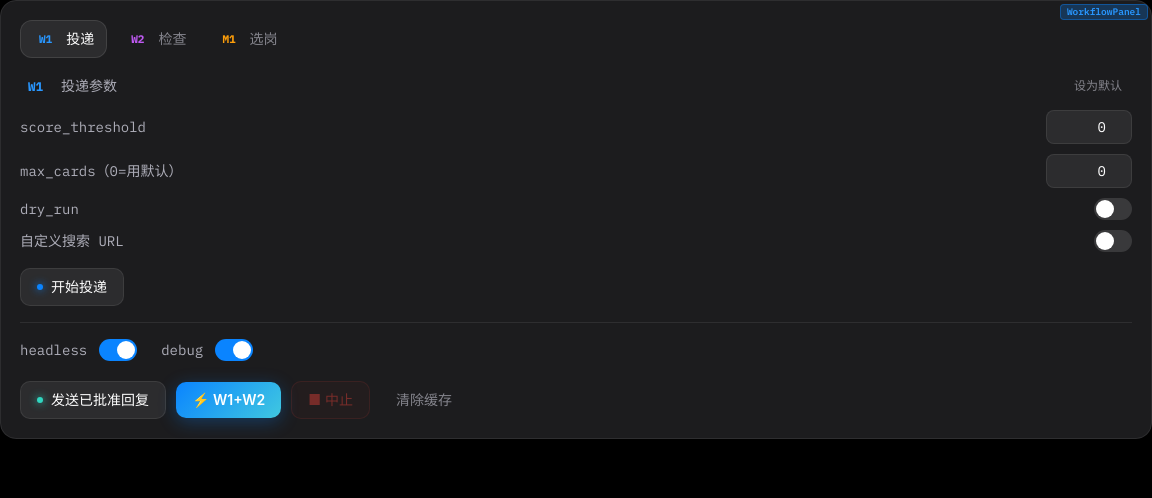
Test: candidates_per_bucket is adjustable from the console › shows the field on the M1 tab
Click the button "M1 选岗": coordinates (247, 39) [204,20,290,58]
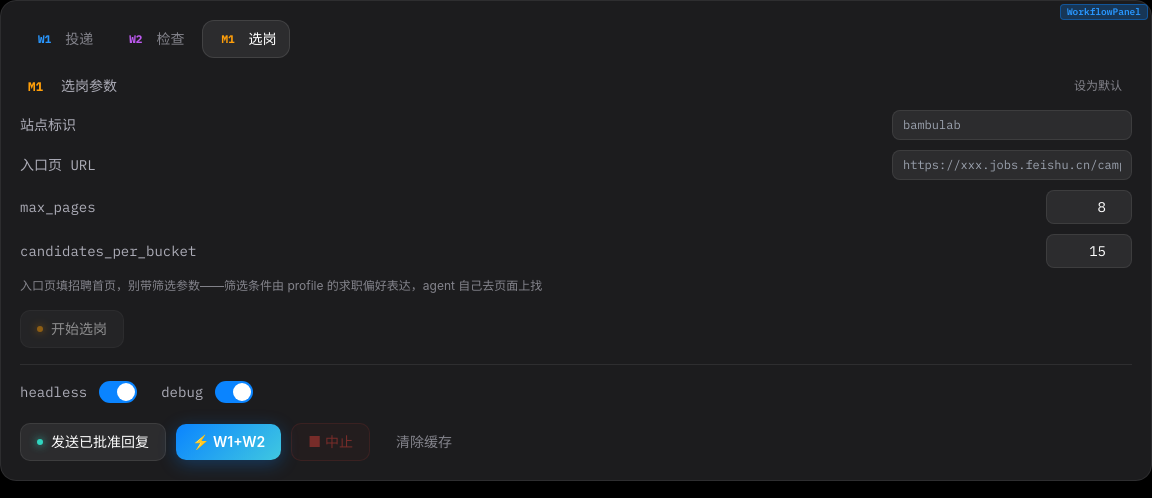
Expected: the text "candidates_per_bucket" is shown, [20,242,196,260]
